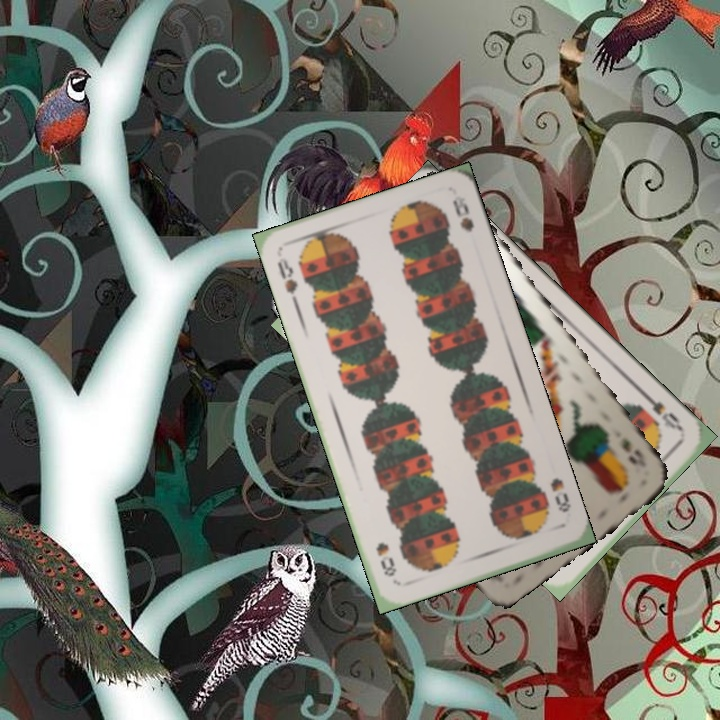EK: (617, 433, 649, 470)
S8: (273, 253, 301, 309), (546, 473, 573, 515)
SO: (639, 389, 687, 434)
